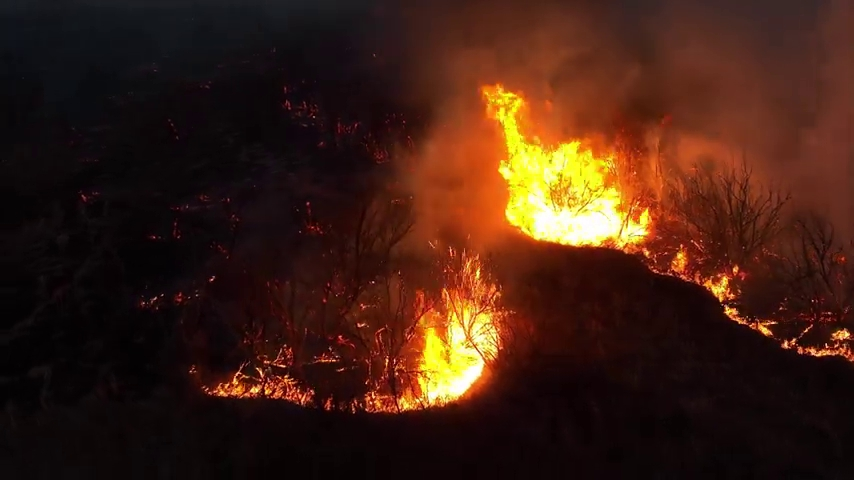forest_fire: (480, 84, 774, 336), (343, 249, 506, 410), (206, 363, 318, 404), (780, 327, 853, 359), (320, 393, 339, 407)
